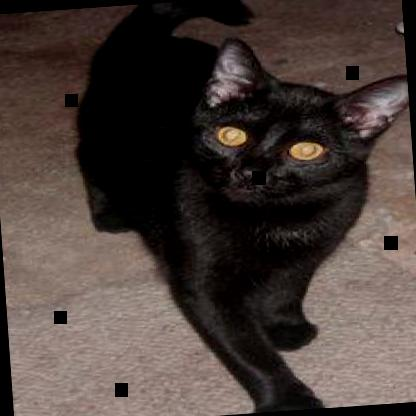cat: (64, 0, 415, 415)
